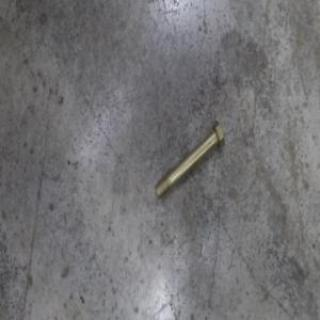Bolttrack_idkeyframe: (153, 119, 224, 199)
